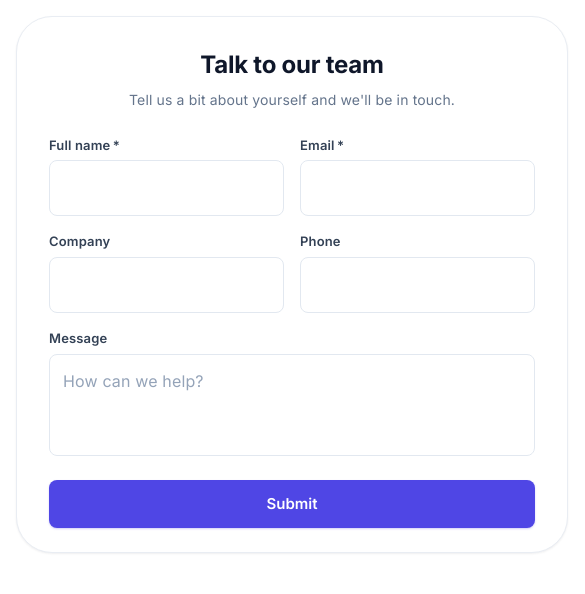
Test: Public LeadFormSection › rejects a malformed email
Type "Jane Doe" into the field labelled "Full name *" at [166, 188], box [49,160,284,216]
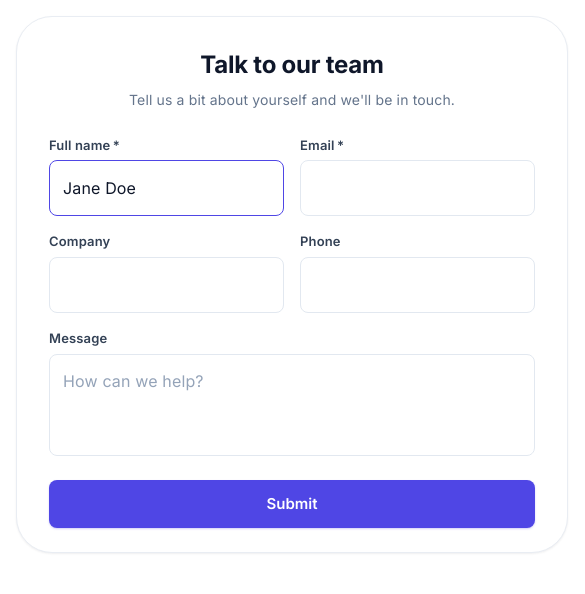
Type "not-an-email" into the field labelled "Email *" at [418, 188], box [300,160,535,216]
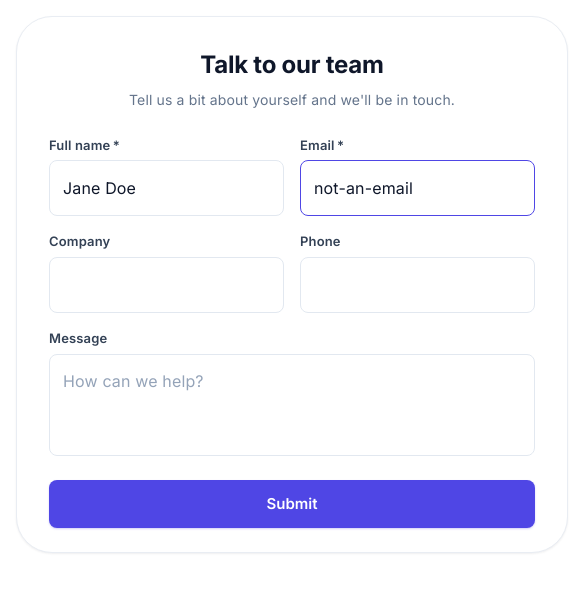
Click the button "Submit" at [292, 504], box [49,480,535,528]
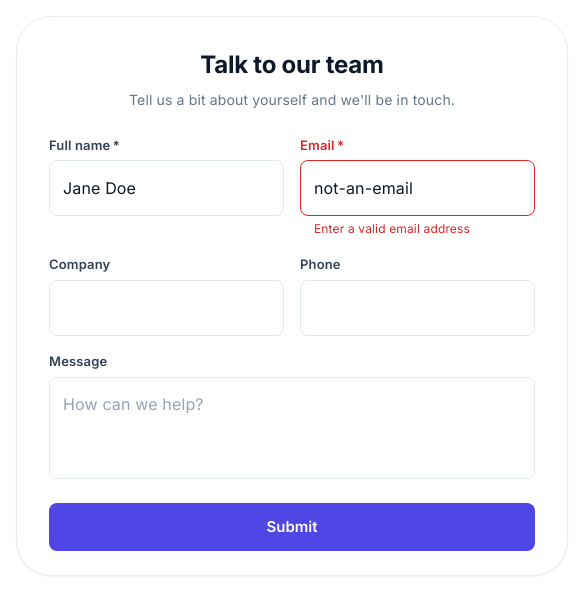
Expected: the text "Enter a valid email address" is shown, [314,222,470,236]
